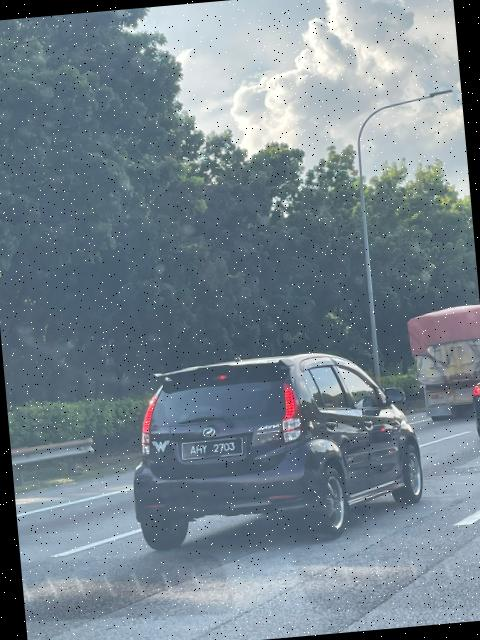License_Plate: (185, 434, 242, 464)
car: (115, 341, 440, 555)
